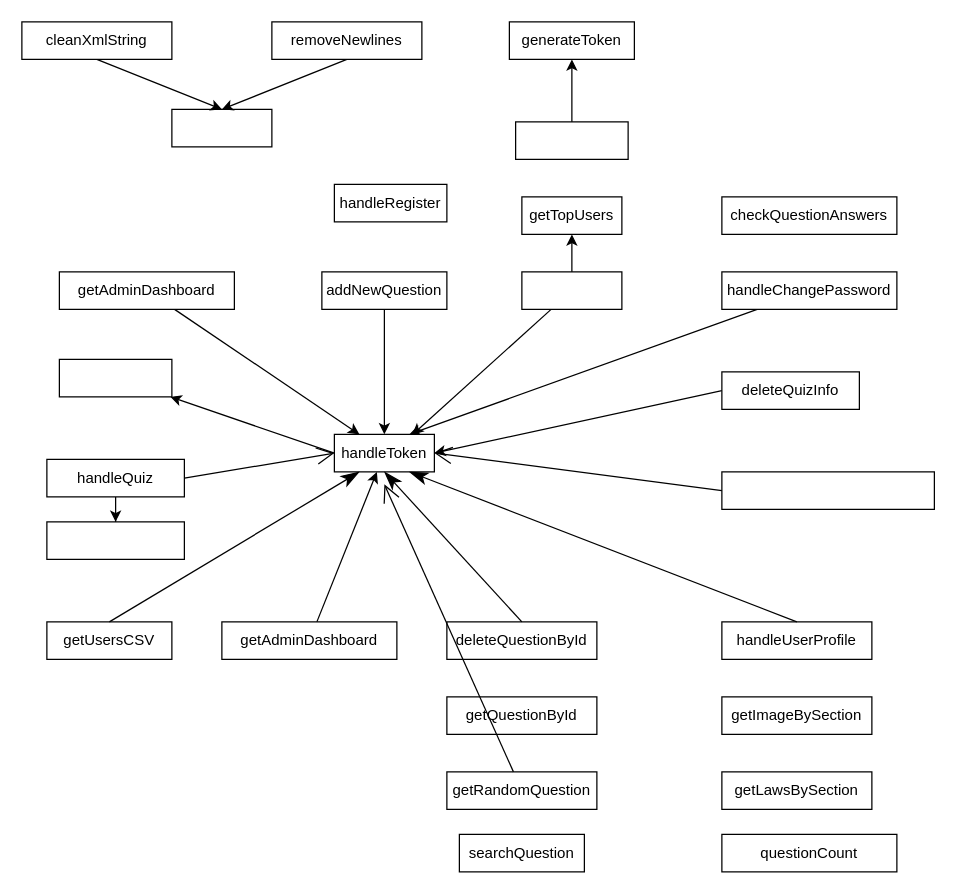
The diagram is 956 pixels wide and 894 high, and some of its shapes have lost their labels. The shapes that lost their labels are listed below. From the top down, each one's centre as x and y in pixels, then its label:
At point (221, 127): "loadRSS".
At point (571, 140): "handleLogin".
At point (571, 290): "topUsers".
At point (115, 377): "verifyToken".
At point (827, 490): "checkQuizQuestionAnswers".
At point (115, 540): "generateQuizToken".
